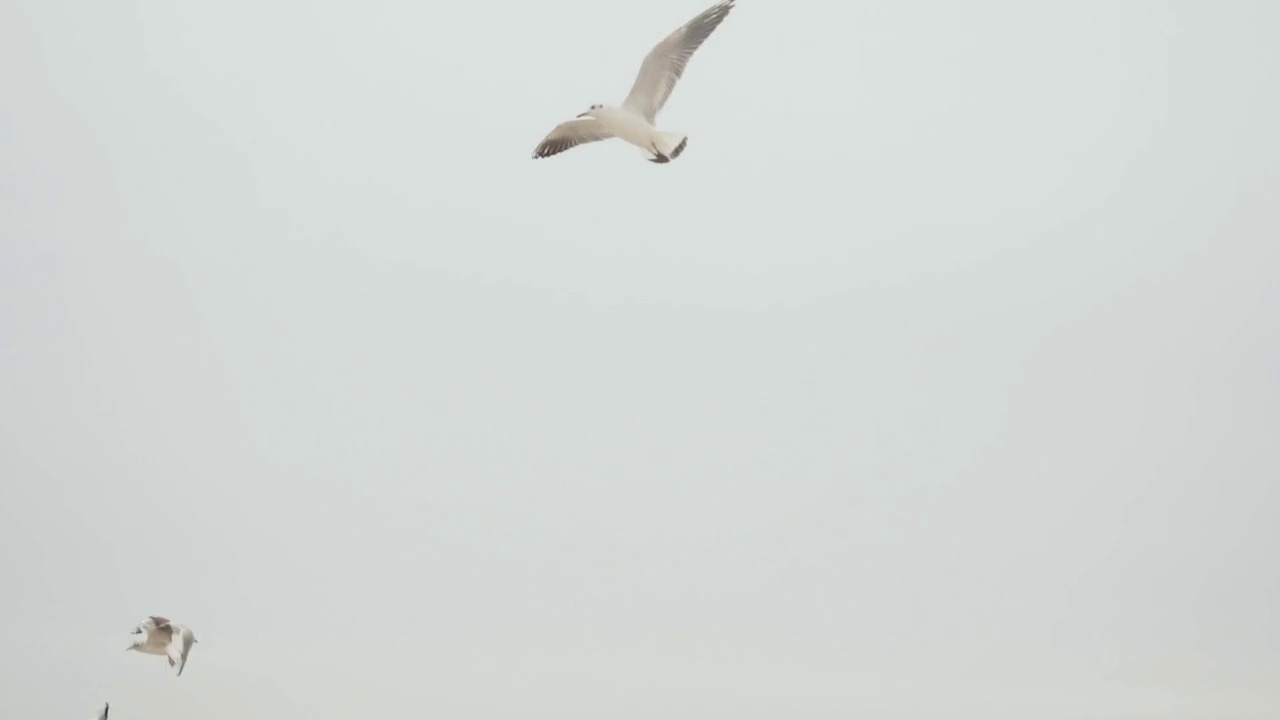bird: (533, 1, 733, 160), (126, 617, 198, 676)
